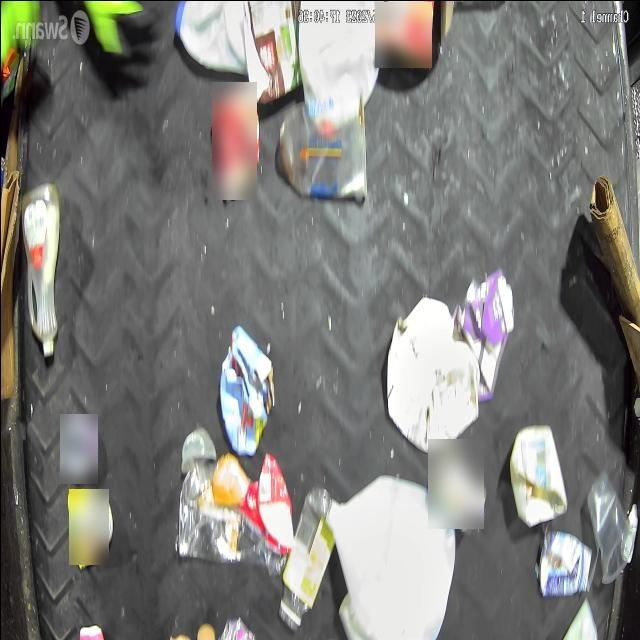milk_jug: (332, 474, 456, 634), (296, 2, 377, 113), (167, 1, 245, 81)
plastic_bottle: (276, 480, 336, 624), (18, 182, 62, 349)
